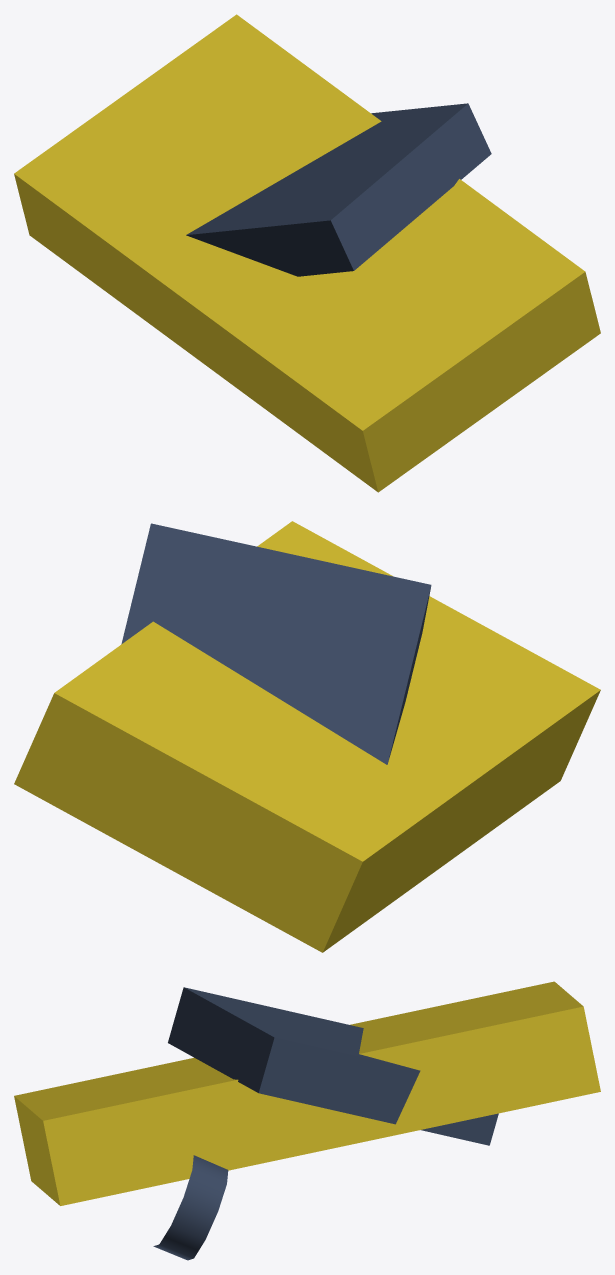
The model's file is lot-car-wreck.glb.
3 views of the same model, one above another, from view 1: azimuth 30°, elevation 25°; view 2: azimuth 150°, elevation 25°; view 3: azimuth 270°, elevation 25° (orthographic). The views are drawn at different scales.
Visible parts, largest first — view 1: Root; view 2: Root; view 3: Root.
Part boxes in pixels (<box>): Root: <box>14,14,600,492</box>; Root: <box>14,521,600,952</box>; Root: <box>14,981,600,1260</box>.
Bounding box in the file's own units: 2.88 × 1.87 × 4.02.
